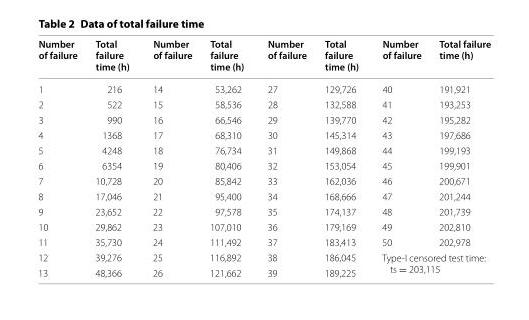table: (37, 36, 490, 281)
table column: (429, 36, 490, 281), (140, 36, 200, 281), (369, 36, 429, 281), (255, 36, 314, 281), (85, 36, 140, 281), (200, 36, 255, 281), (314, 36, 369, 281), (37, 36, 85, 281)
table column header: (37, 36, 490, 77)
table row: (37, 36, 490, 77), (37, 77, 490, 96), (37, 264, 490, 281), (37, 111, 490, 127), (37, 172, 490, 188), (37, 218, 490, 234), (37, 96, 490, 111), (37, 127, 490, 142), (37, 142, 490, 157), (37, 157, 490, 172), (37, 188, 490, 203), (37, 203, 490, 218), (37, 234, 490, 249), (37, 249, 490, 264)
table spanning cell: (369, 249, 490, 281)
